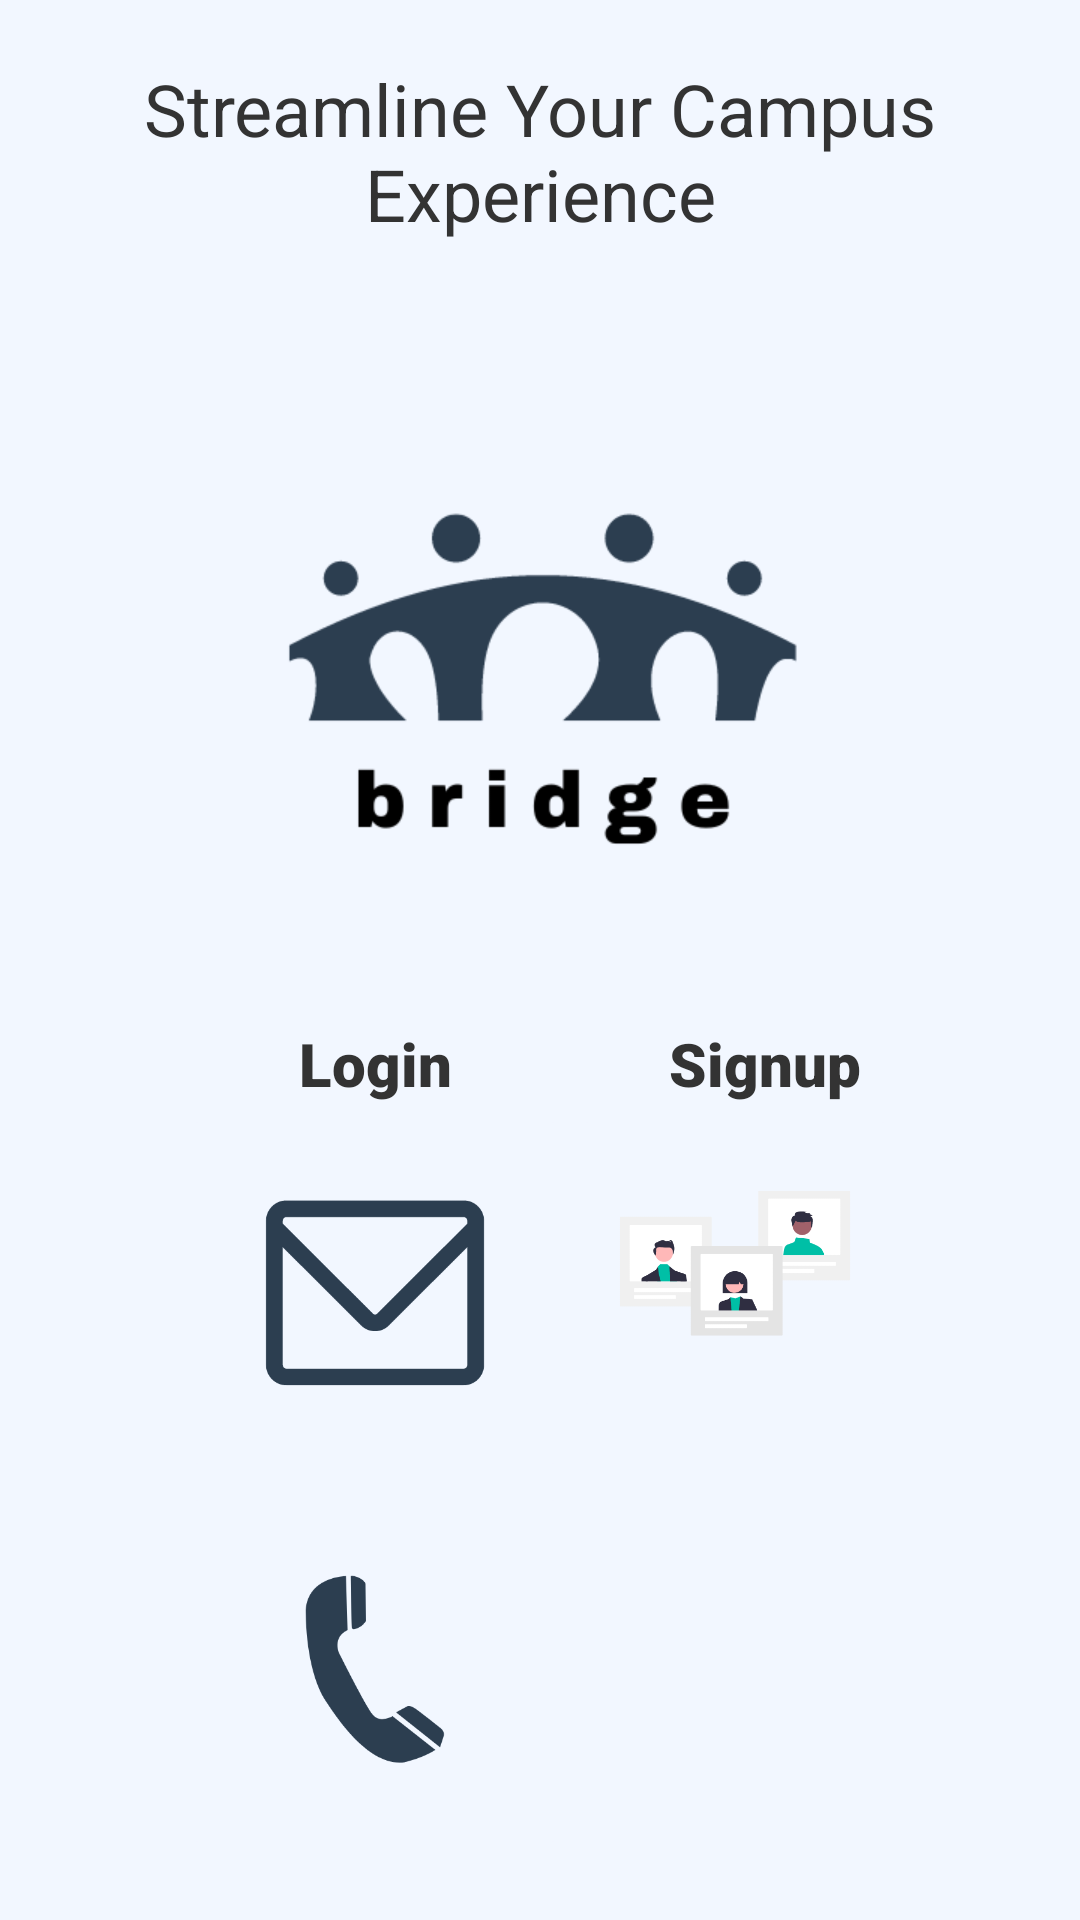

Screen size 1080px x 1920px. Icon name, then its center in pixels as (x=x, y=y):
email: (x=375, y=1292)
